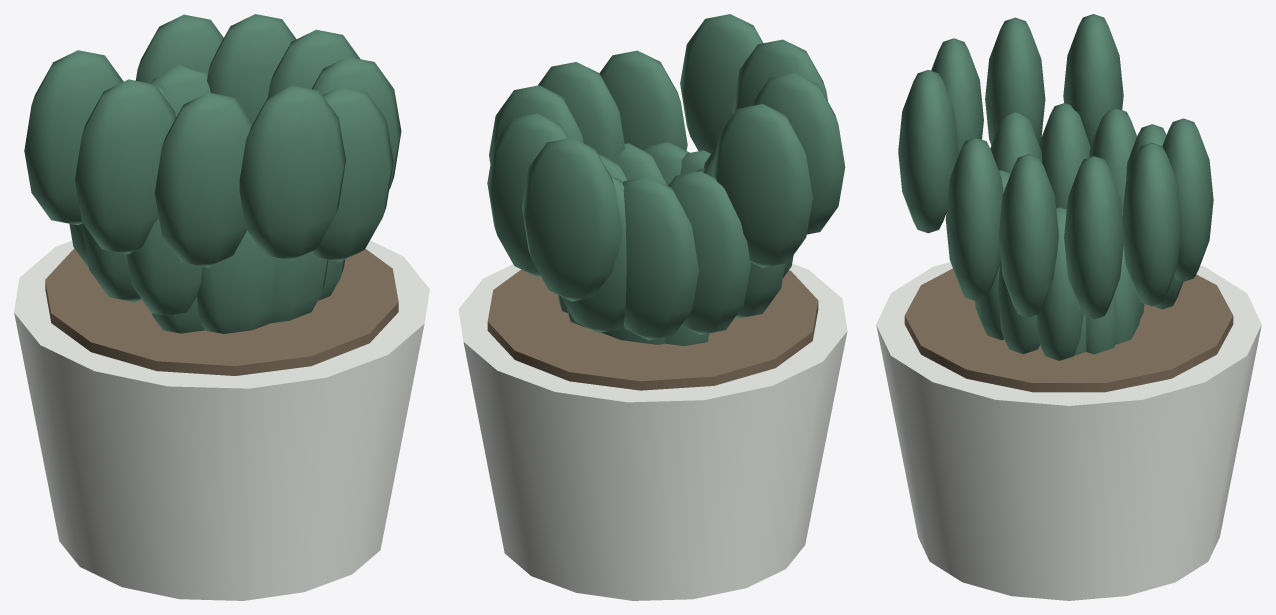
Rendered from potted_succulent01.glb.
The picture shows the model from 3 angles, left to right: view 1: azimuth 30°, elevation 25°; view 2: azimuth 150°, elevation 25°; view 3: azimuth 270°, elevation 25°; orthographic projection. The views are drawn at different scales.
Visible parts, largest first — view 1: leaves, pot, soil; view 2: leaves, pot, soil; view 3: pot, leaves, soil.
Part boxes in pixels (box(x1,y1,x2,y2)): leaves: box(24, 14, 401, 333); pot: box(14, 240, 429, 600); soil: box(45, 248, 398, 375); leaves: box(487, 14, 845, 345); pot: box(458, 263, 847, 600); soil: box(487, 269, 818, 390); pot: box(876, 262, 1261, 600); leaves: box(898, 14, 1213, 360); soil: box(904, 268, 1233, 392).
Bounding box in the file's own units: 0.2317 × 0.305 × 0.23.
